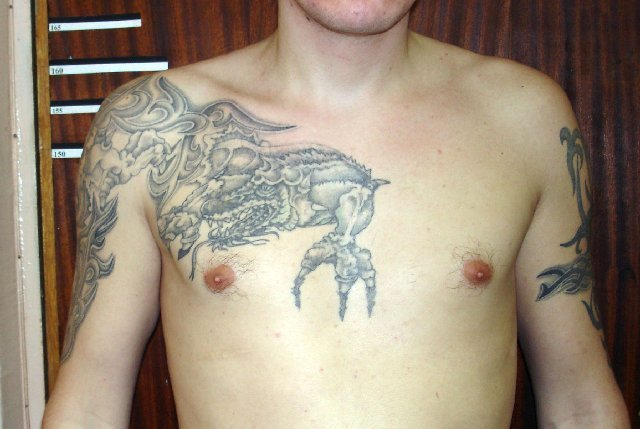tatu6_drakon: (60, 69, 427, 374)
